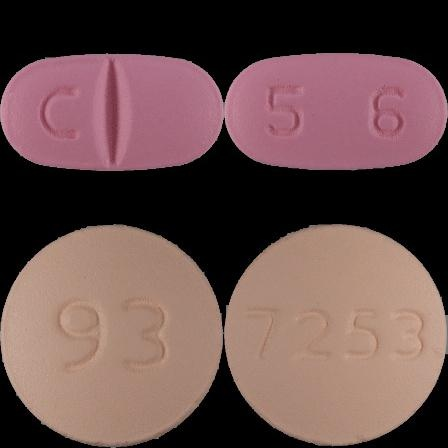61786-716: (0, 0, 224, 224)
